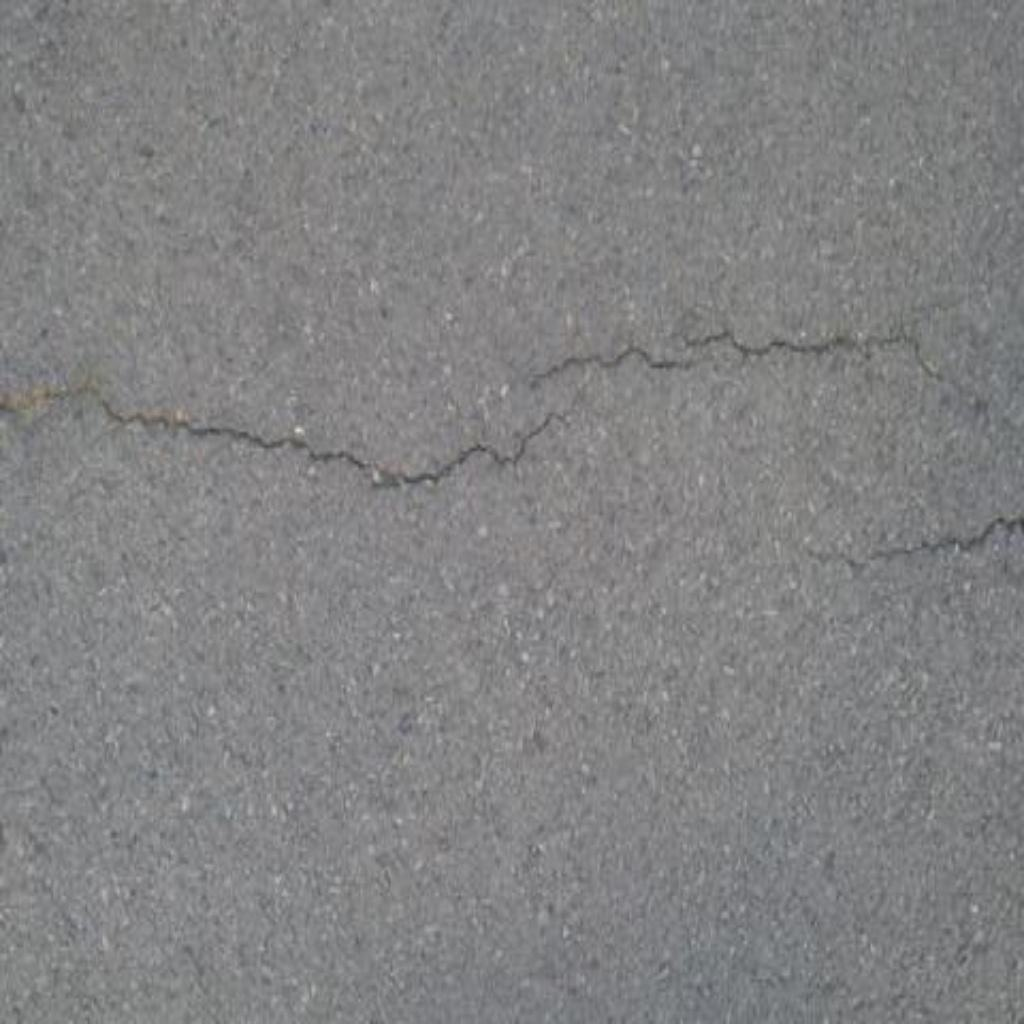Crack: (1, 385, 573, 491), (530, 328, 952, 392), (804, 517, 1024, 571)
